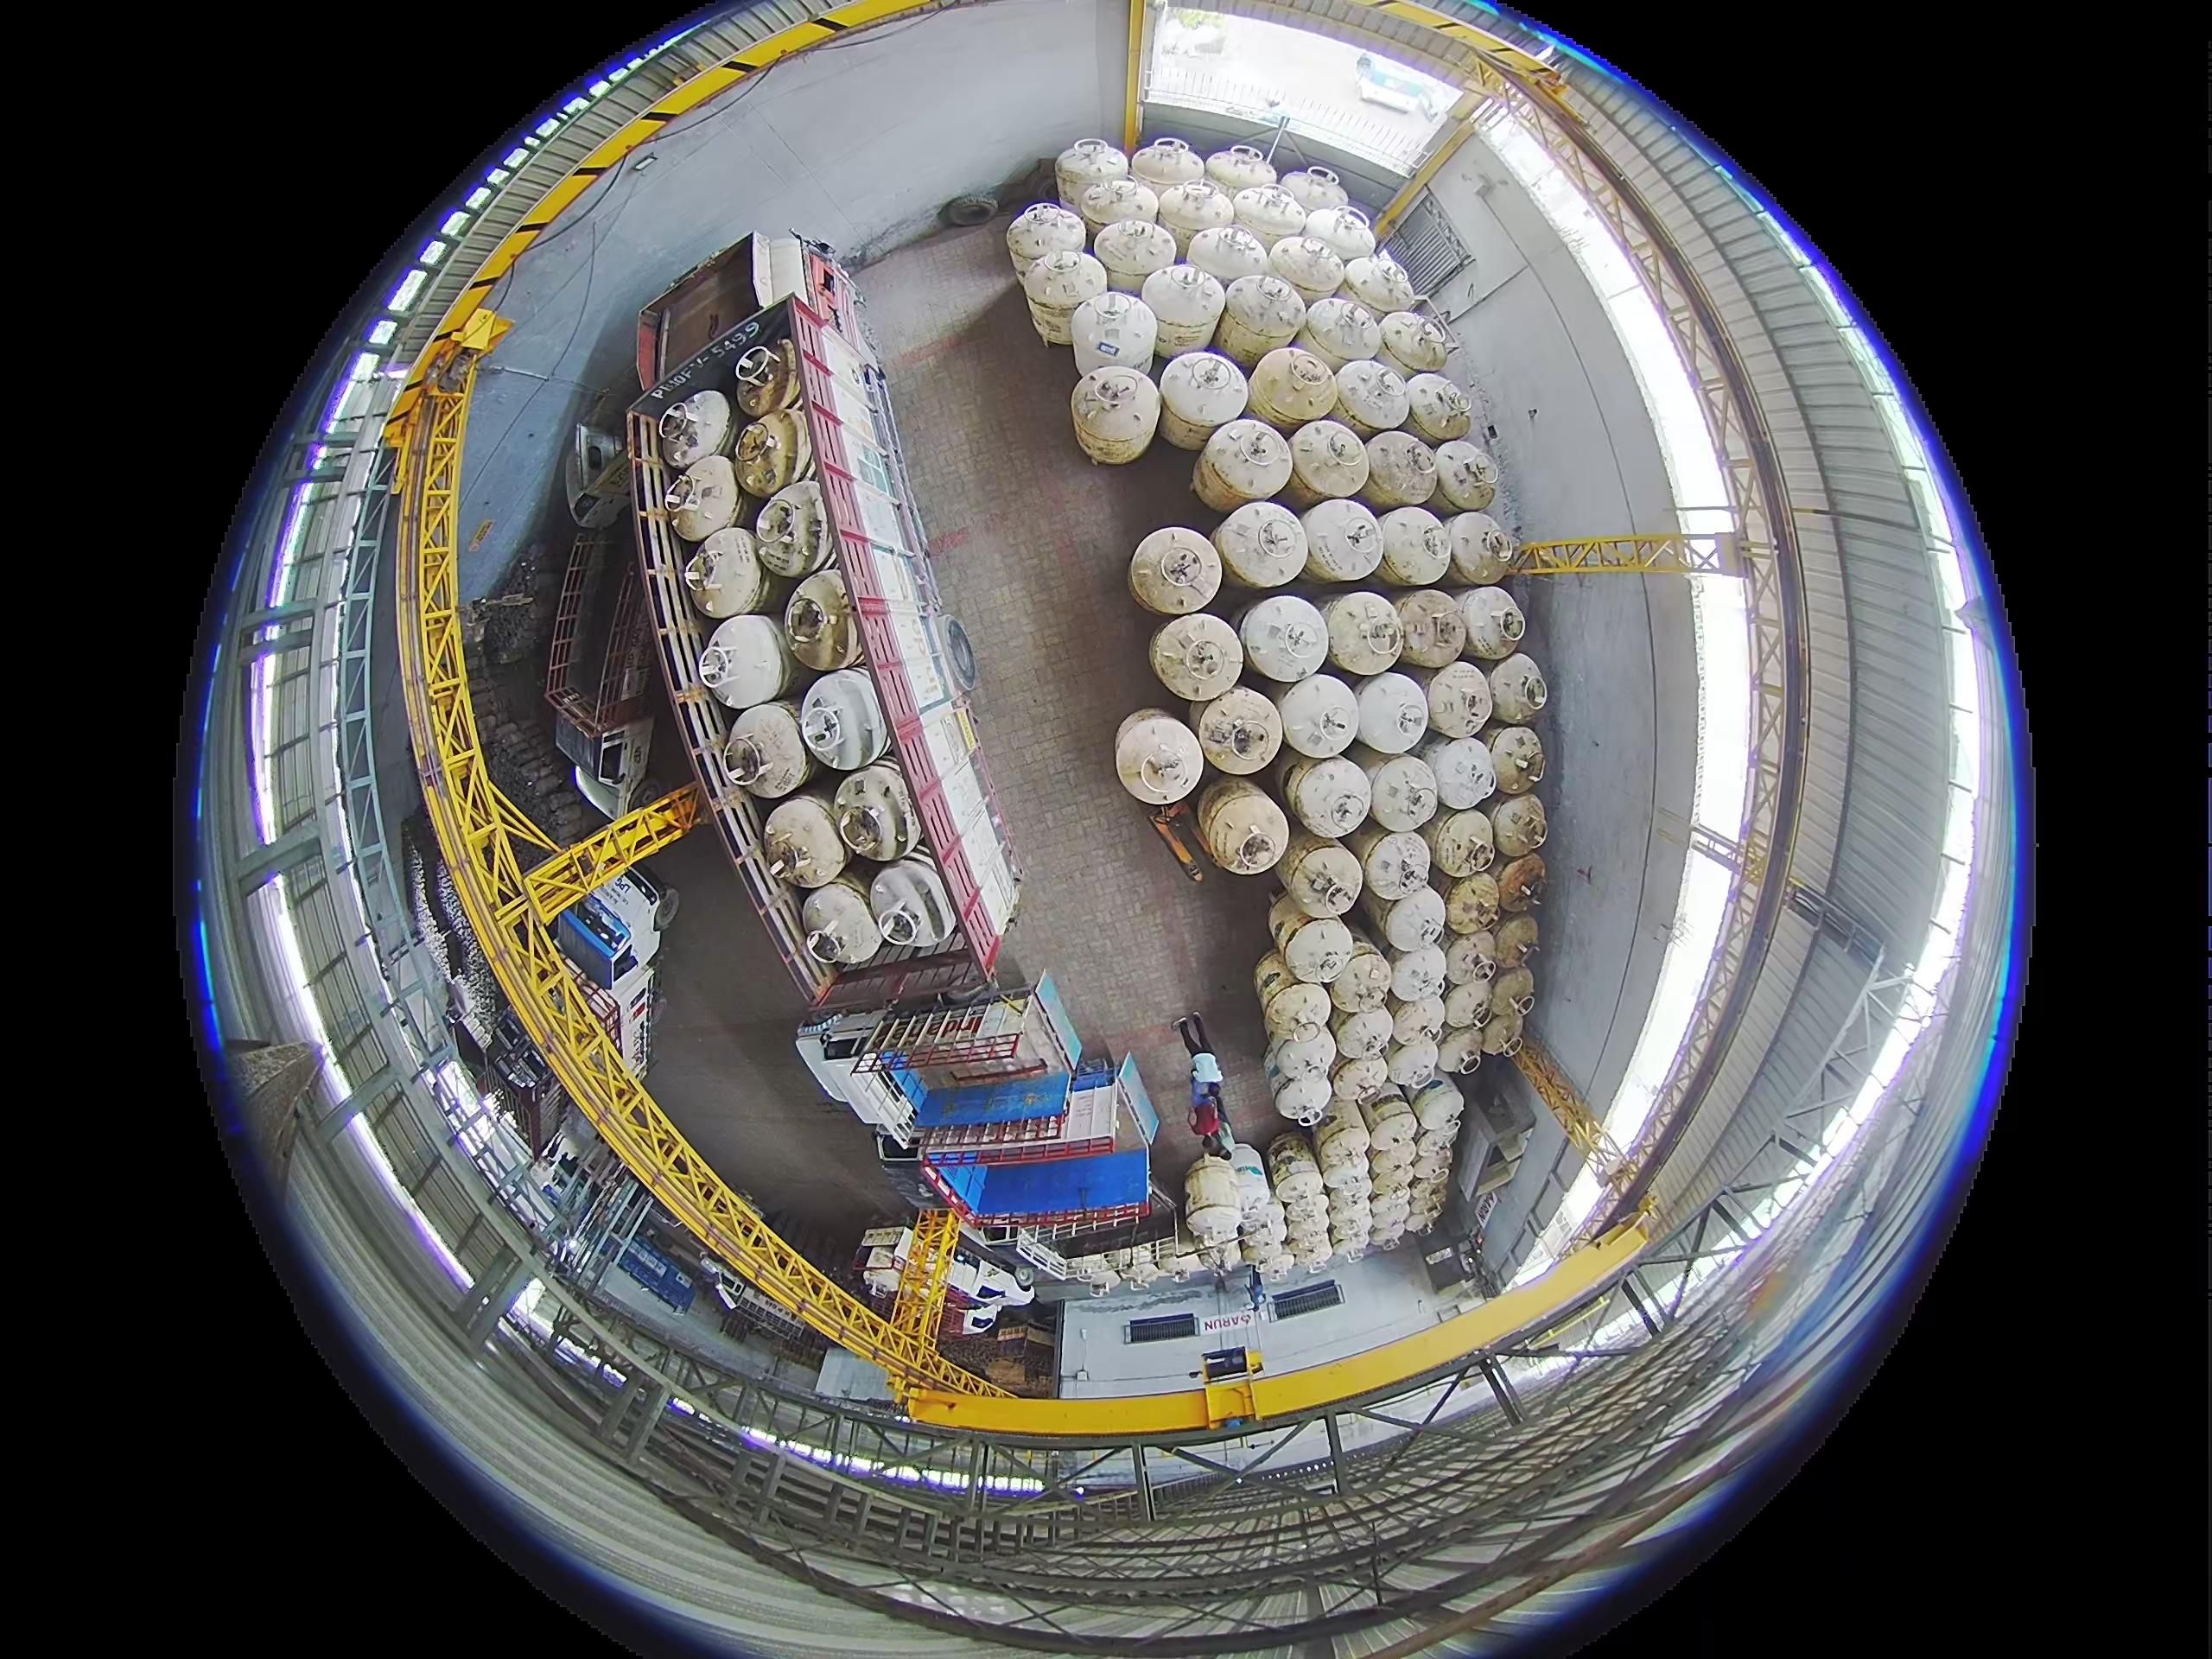cylinder: (1103, 521, 1233, 645), (1118, 688, 1219, 823), (698, 610, 798, 704), (1195, 779, 1291, 875), (725, 701, 819, 796), (1148, 612, 1244, 702), (1212, 498, 1308, 589), (1197, 418, 1292, 509), (1216, 272, 1306, 368), (1157, 355, 1247, 450), (1238, 596, 1331, 687), (1247, 345, 1338, 436), (1195, 688, 1285, 777), (1017, 249, 1099, 347), (1277, 671, 1366, 760), (679, 525, 768, 613), (1285, 755, 1374, 840), (1141, 261, 1224, 352), (662, 453, 742, 545), (754, 481, 831, 577), (1069, 289, 1153, 376), (1322, 592, 1406, 678), (1287, 418, 1371, 504), (1275, 831, 1360, 913), (1299, 498, 1383, 580), (735, 404, 808, 497), (1352, 671, 1430, 756), (655, 389, 733, 474), (1376, 504, 1454, 584), (1362, 429, 1440, 509), (1155, 179, 1237, 256), (1188, 220, 1273, 293), (1366, 755, 1442, 835), (1303, 295, 1383, 371), (1331, 359, 1411, 436), (1280, 913, 1362, 988), (1425, 659, 1498, 741), (1393, 589, 1468, 667), (1425, 734, 1498, 812), (1184, 1155, 1249, 1244), (1096, 216, 1176, 286), (1362, 829, 1435, 904), (733, 342, 805, 418), (1426, 805, 1498, 880), (1078, 176, 1155, 246), (1266, 232, 1345, 300), (1055, 138, 1129, 209), (1458, 586, 1527, 660), (1446, 511, 1515, 586), (1432, 439, 1501, 514), (1007, 200, 1082, 270), (1231, 185, 1310, 251), (1400, 371, 1470, 444), (1301, 204, 1378, 270), (1378, 310, 1449, 380), (1341, 253, 1416, 317), (1129, 138, 1204, 202), (1324, 946, 1395, 1012), (1484, 652, 1548, 725), (1385, 889, 1453, 957), (1259, 979, 1332, 1042), (1486, 723, 1547, 796), (1205, 145, 1278, 200), (1386, 946, 1451, 1009), (1444, 871, 1505, 938), (1489, 791, 1548, 859), (1270, 1068, 1334, 1129), (1268, 1026, 1334, 1086), (1329, 1009, 1395, 1065), (1278, 167, 1348, 218), (1385, 1033, 1444, 1093), (1442, 929, 1501, 988), (1252, 950, 1303, 1016), (1364, 1100, 1421, 1157), (1411, 1079, 1467, 1138), (1494, 852, 1548, 913), (1439, 978, 1496, 1033), (1268, 890, 1320, 951), (1331, 1051, 1390, 1103), (1484, 964, 1534, 1025), (1324, 1190, 1372, 1251), (1214, 1143, 1270, 1195), (1278, 1188, 1331, 1244), (1479, 1006, 1531, 1060), (1266, 1134, 1320, 1187), (1315, 1126, 1371, 1176), (1433, 1021, 1486, 1073), (1493, 915, 1541, 969), (1237, 1225, 1285, 1274), (1366, 1192, 1413, 1243), (1320, 1159, 1371, 1204), (1242, 1197, 1287, 1246), (1284, 1227, 1332, 1272), (1367, 1159, 1418, 1199), (1413, 1122, 1458, 1166), (1406, 1190, 1449, 1234), (1407, 1147, 1451, 1185)
truck: (625, 235, 1022, 1009), (789, 972, 1150, 1152), (540, 525, 665, 826), (542, 868, 674, 1122), (841, 1220, 1045, 1354), (869, 1162, 1224, 1236), (568, 396, 658, 544)
